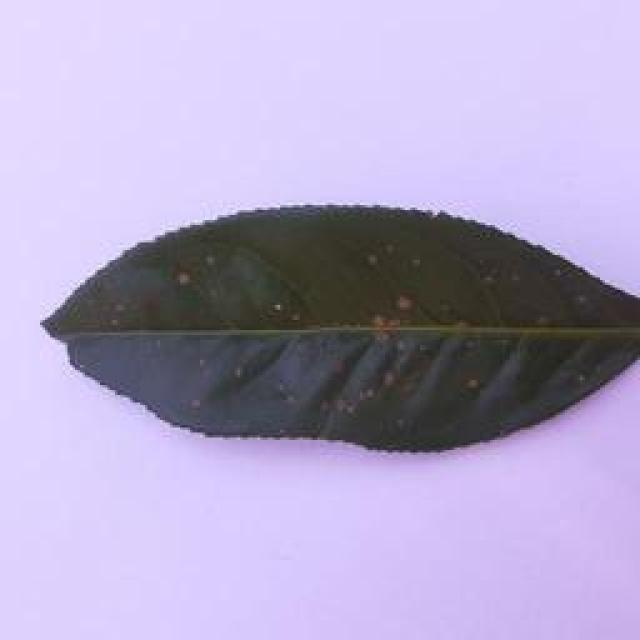Algal Leaf Spot: (40, 195, 640, 450)
